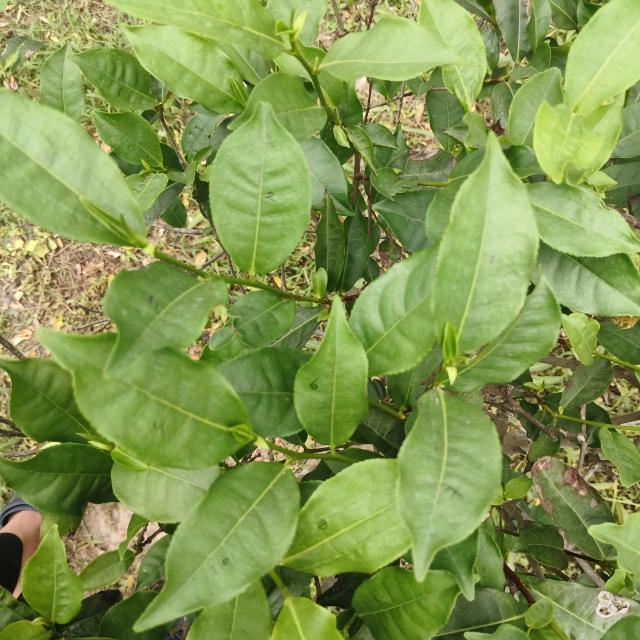Leaf: (42, 330, 251, 469), (135, 461, 300, 631), (431, 133, 538, 351), (0, 89, 146, 245), (397, 389, 502, 581), (201, 102, 311, 276), (282, 459, 410, 577), (103, 262, 228, 374), (452, 275, 561, 391), (349, 245, 438, 376), (294, 297, 368, 450), (123, 25, 242, 113), (111, 0, 284, 59), (319, 17, 462, 81), (531, 456, 617, 560), (564, 0, 640, 115), (525, 182, 640, 257), (218, 347, 311, 438), (0, 358, 98, 444), (0, 444, 115, 516), (352, 566, 460, 640), (418, 0, 487, 110), (538, 243, 640, 316), (202, 291, 296, 365), (231, 72, 327, 141), (111, 462, 219, 523), (529, 581, 640, 640), (21, 525, 83, 624), (70, 48, 157, 110), (186, 581, 271, 640), (434, 587, 527, 640), (506, 67, 563, 147), (299, 138, 354, 216), (92, 110, 163, 167), (533, 101, 581, 183), (373, 190, 434, 252), (588, 513, 640, 581), (582, 94, 624, 176), (95, 591, 165, 640), (40, 44, 84, 121), (431, 530, 478, 599), (271, 597, 343, 640), (314, 192, 344, 293), (560, 357, 613, 410), (336, 214, 371, 293), (514, 521, 568, 570), (425, 89, 465, 153), (356, 406, 405, 457), (182, 114, 235, 161), (599, 427, 640, 487), (493, 0, 530, 63), (79, 550, 135, 590), (135, 535, 173, 591), (562, 313, 599, 365), (598, 321, 640, 364), (125, 173, 168, 211), (0, 36, 46, 71), (370, 167, 417, 201), (345, 126, 377, 175), (526, 0, 551, 52), (527, 431, 560, 462), (0, 620, 48, 640), (362, 123, 398, 149), (525, 597, 554, 628), (550, 0, 578, 30), (167, 160, 197, 184), (503, 478, 532, 500)
